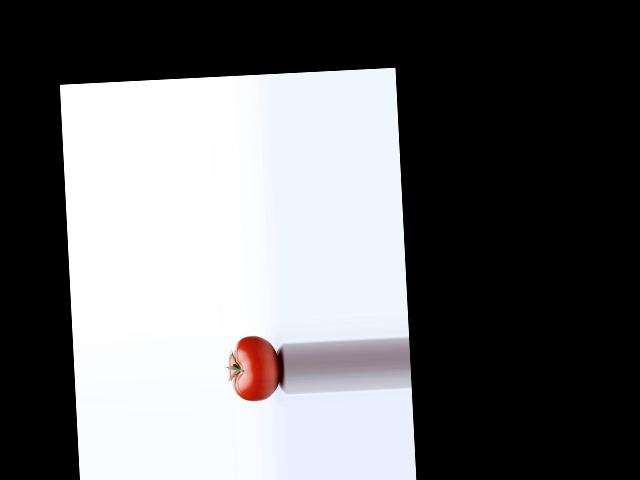tomato: (227, 334, 280, 402)
